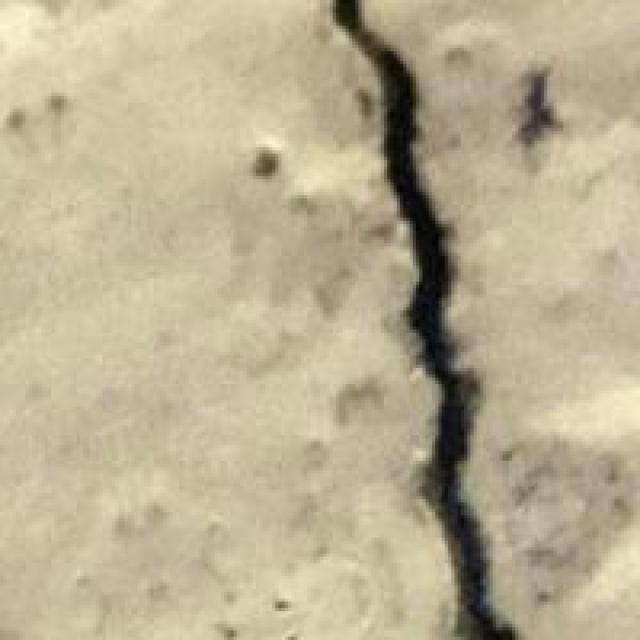Crack: (304, 0, 538, 637)
